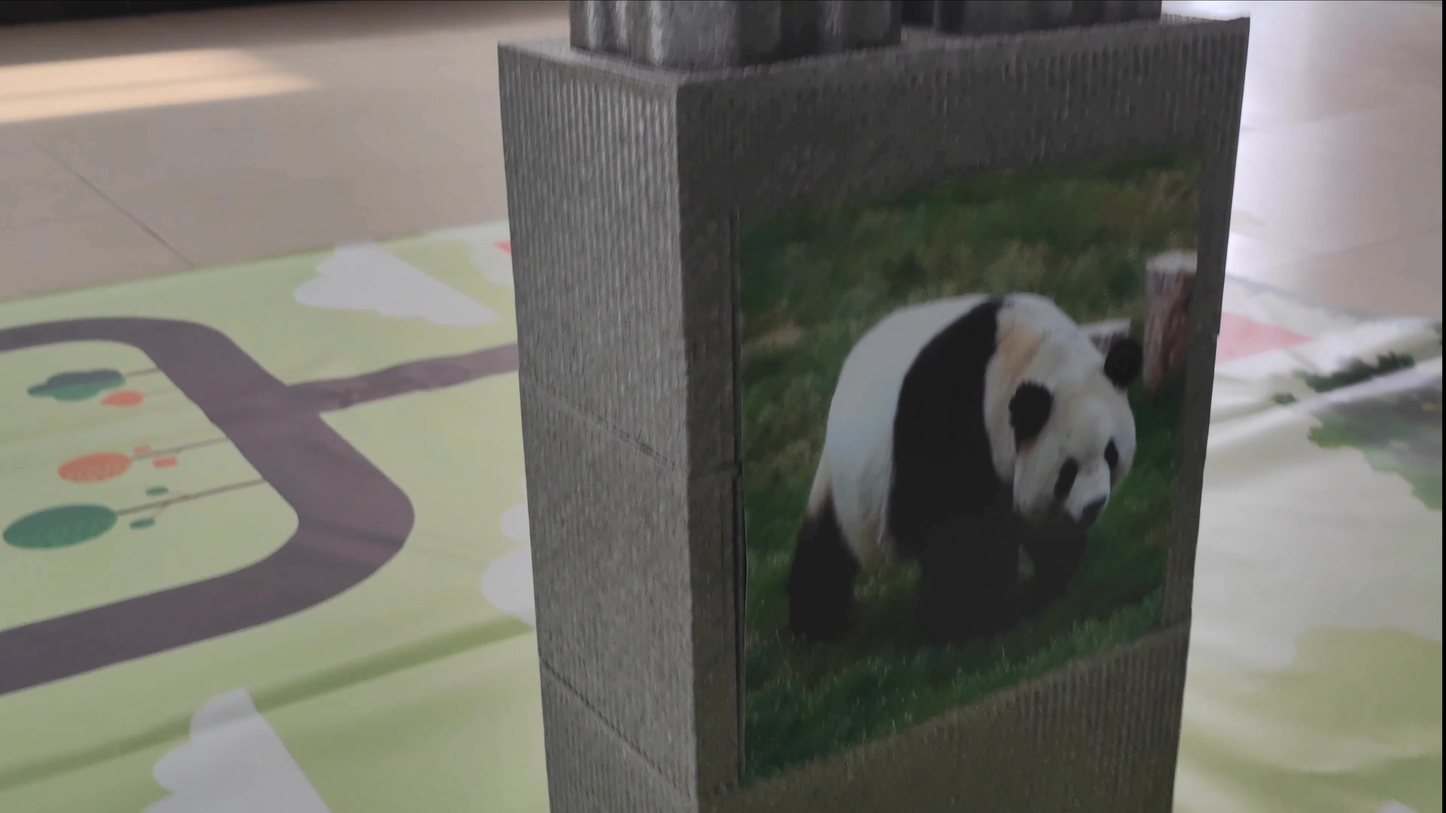panda: (754, 271, 1149, 658)
